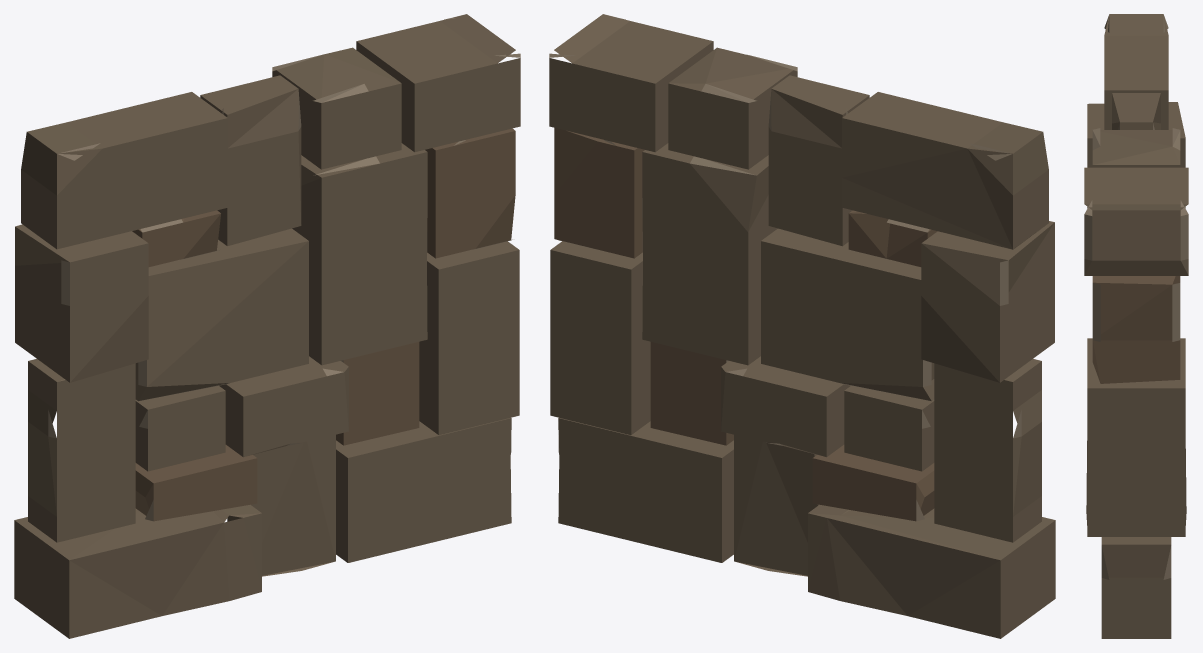
Rendered from wall_modular_lod.glb.
The picture shows the model from 3 angles, left to right: view 1: azimuth 30°, elevation 25°; view 2: azimuth 150°, elevation 25°; view 3: azimuth 270°, elevation 25°; orthographic projection. The views are drawn at different scales.
Parts seen in each view (by area): view 1: Wall_Modular; view 2: Wall_Modular; view 3: Wall_Modular.
Boxes of the visible parts, <box> form: Wall_Modular: <box>14,14,520,638</box>; Wall_Modular: <box>549,14,1055,638</box>; Wall_Modular: <box>1084,14,1188,638</box>.
Size of the model in its own units: 1.99 by 2.01 by 0.4381.
